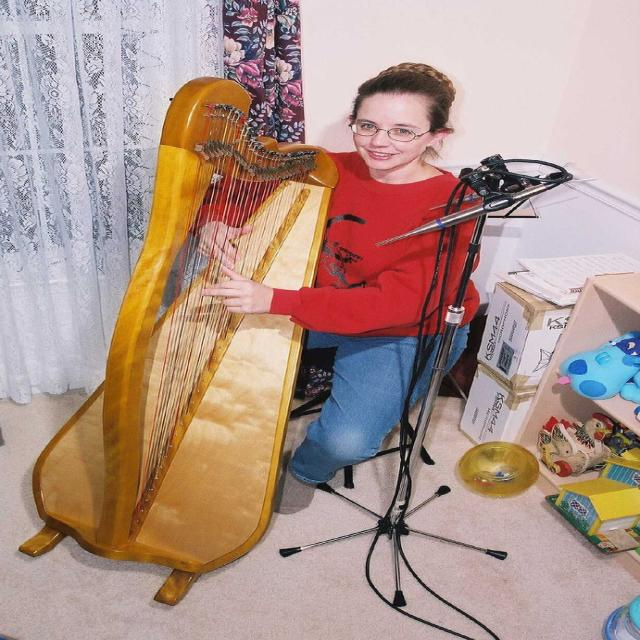harp: (31, 79, 338, 569)
